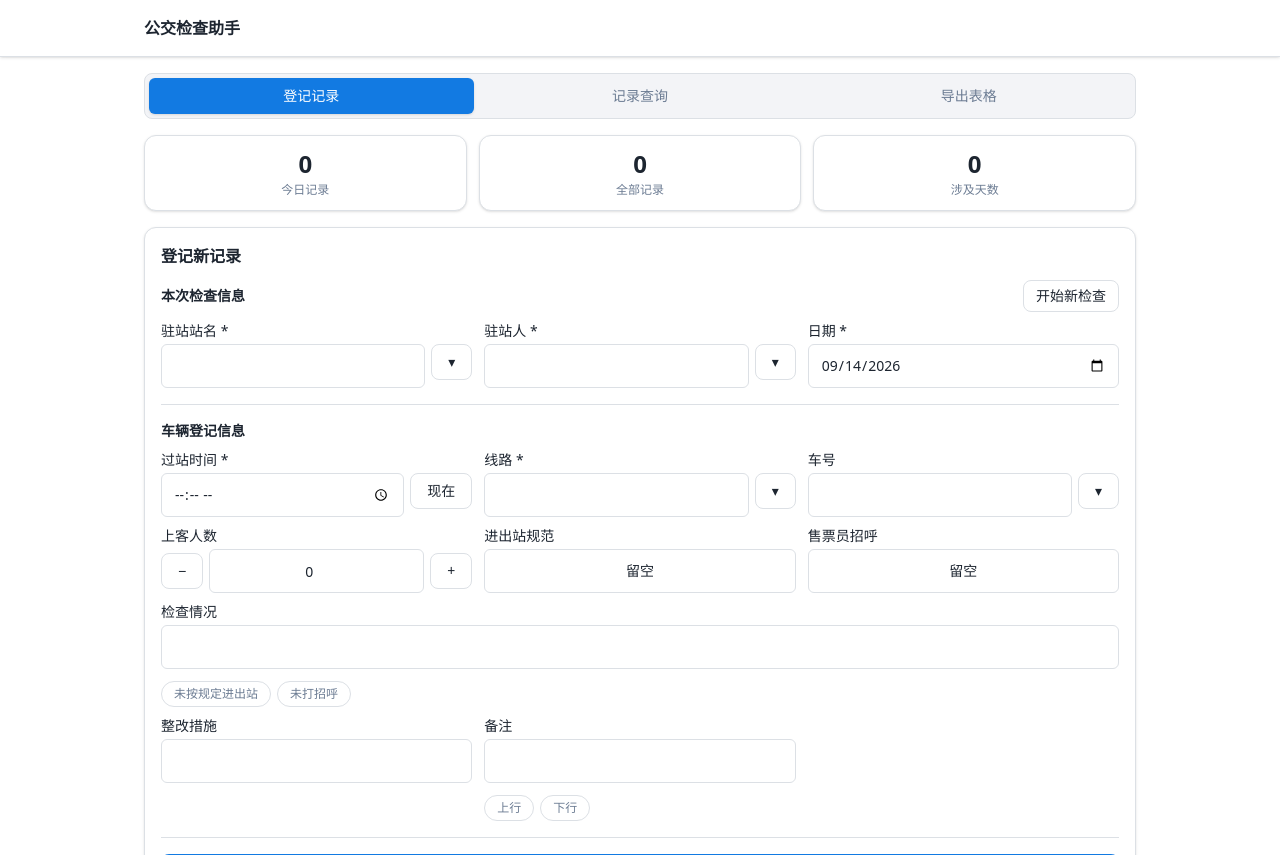
it: 驻站登记 › 必填校验：缺日期/过站时间/线路时提示
The width and height of the screenshot is (1280, 855).
Type "汽车站" into the field below "驻站站名 *" at (293, 366), box left=161, top=344, right=425, bottom=388
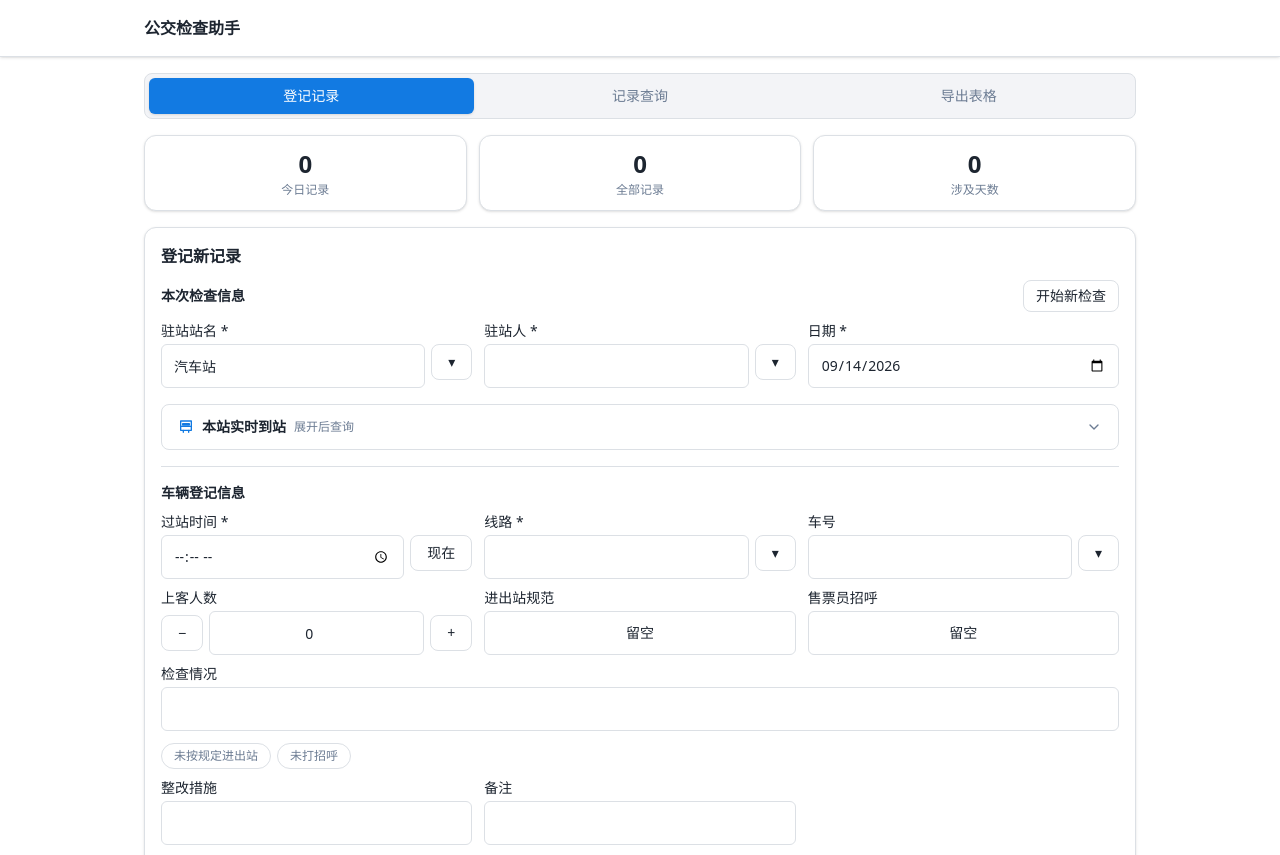
Type "王五" into the field below "驻站人 *" at (616, 366), box left=484, top=344, right=749, bottom=388
(page scrolled)
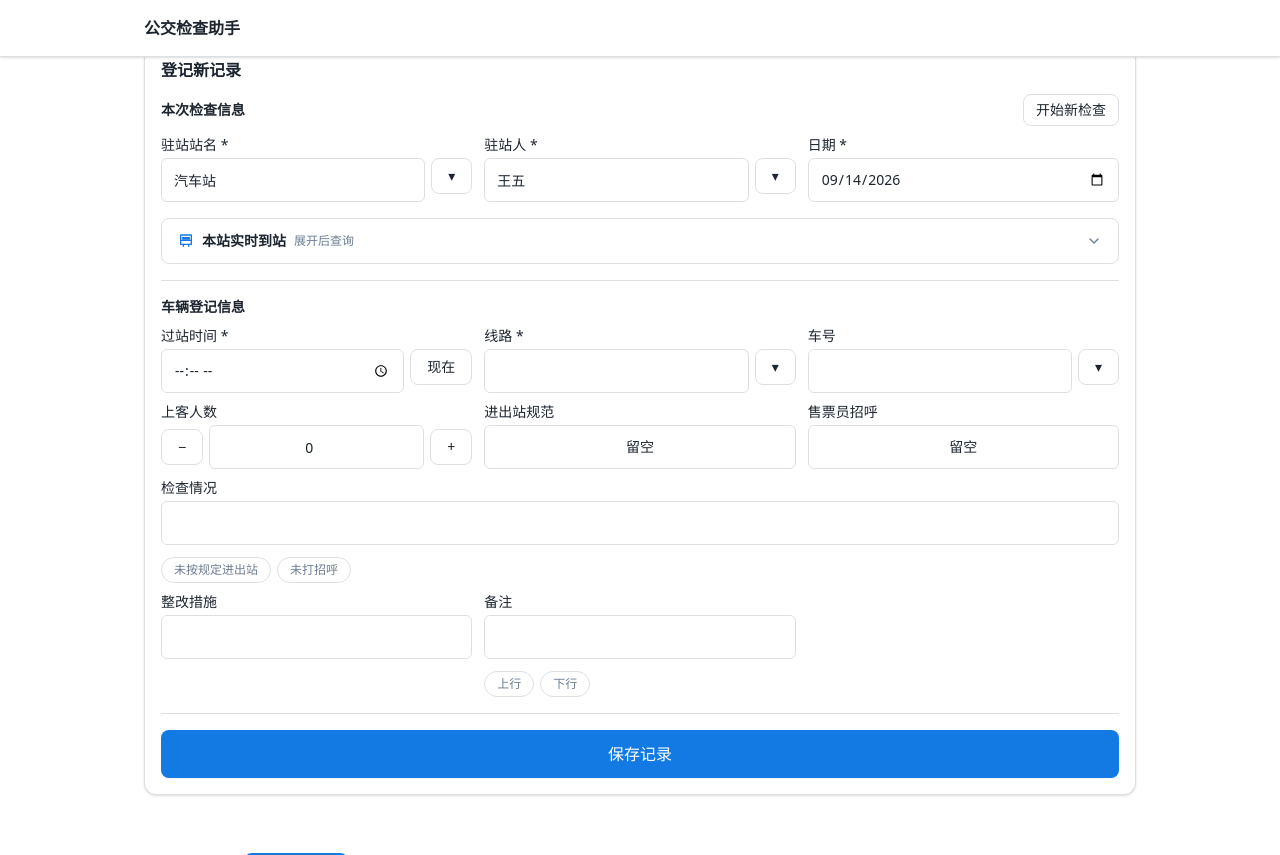
Click the button "保存记录" at (640, 754), box left=161, top=730, right=1119, bottom=778
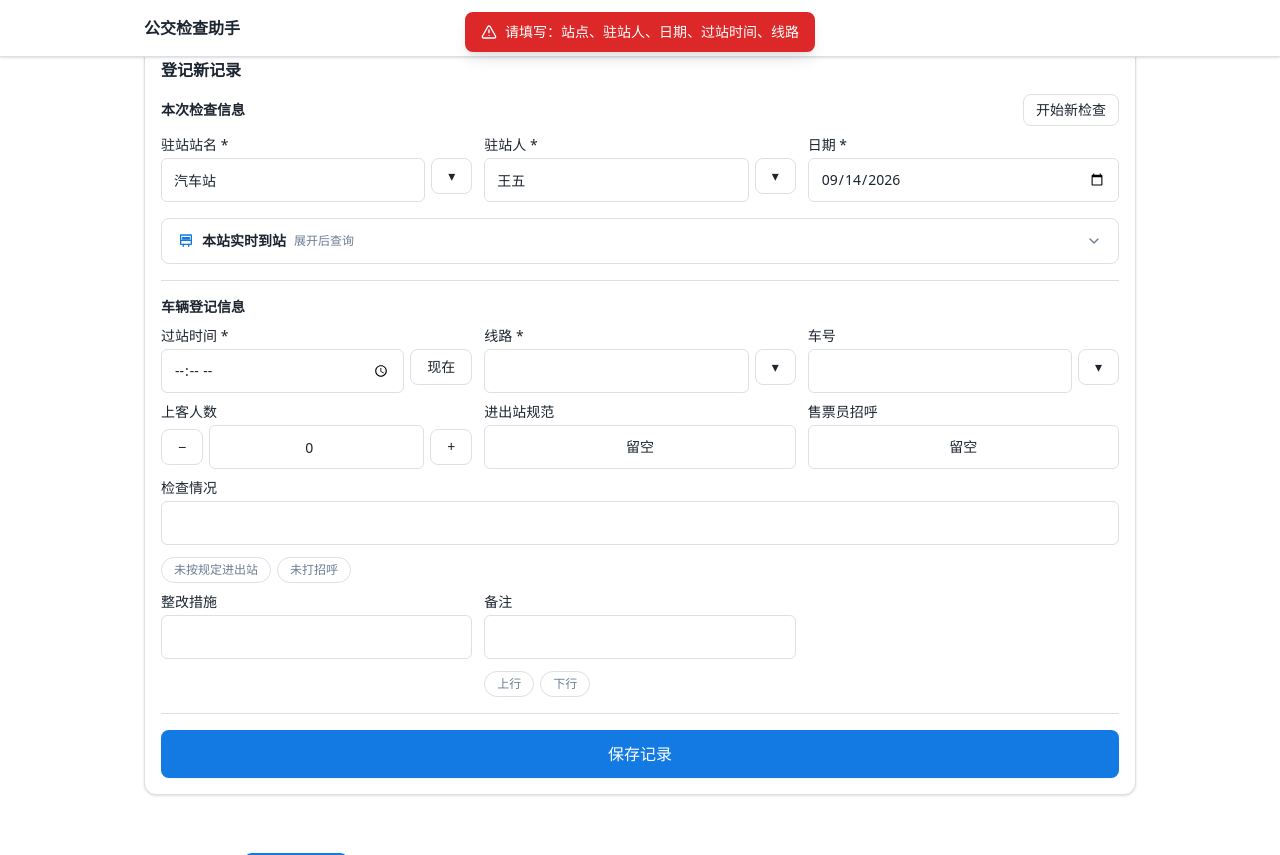
Expected: the text "请填写：站点、驻站人、日期、过站时间、线路" is shown, left=505, top=22, right=799, bottom=42
